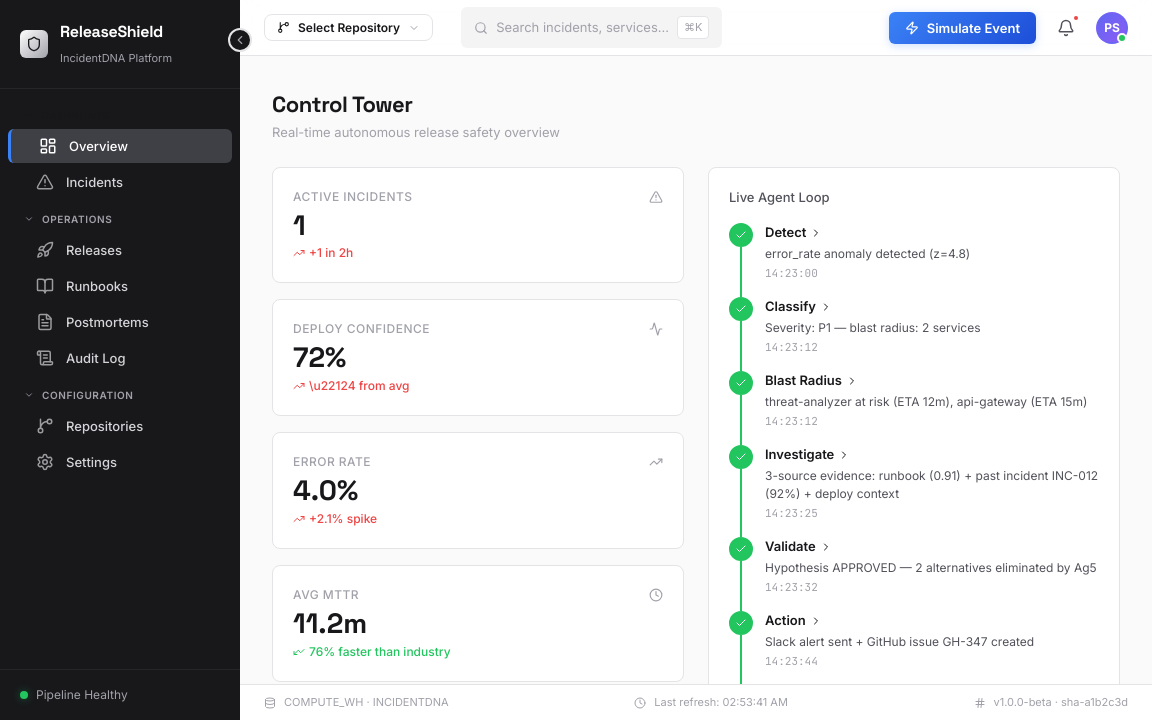
Test: Integration — Incident Drawer Flow › full drawer interaction flow
# Navigate to incidents
Click the button with id "nav-incidents".
click(120, 182)  # box left=8, top=165, right=232, bottom=199
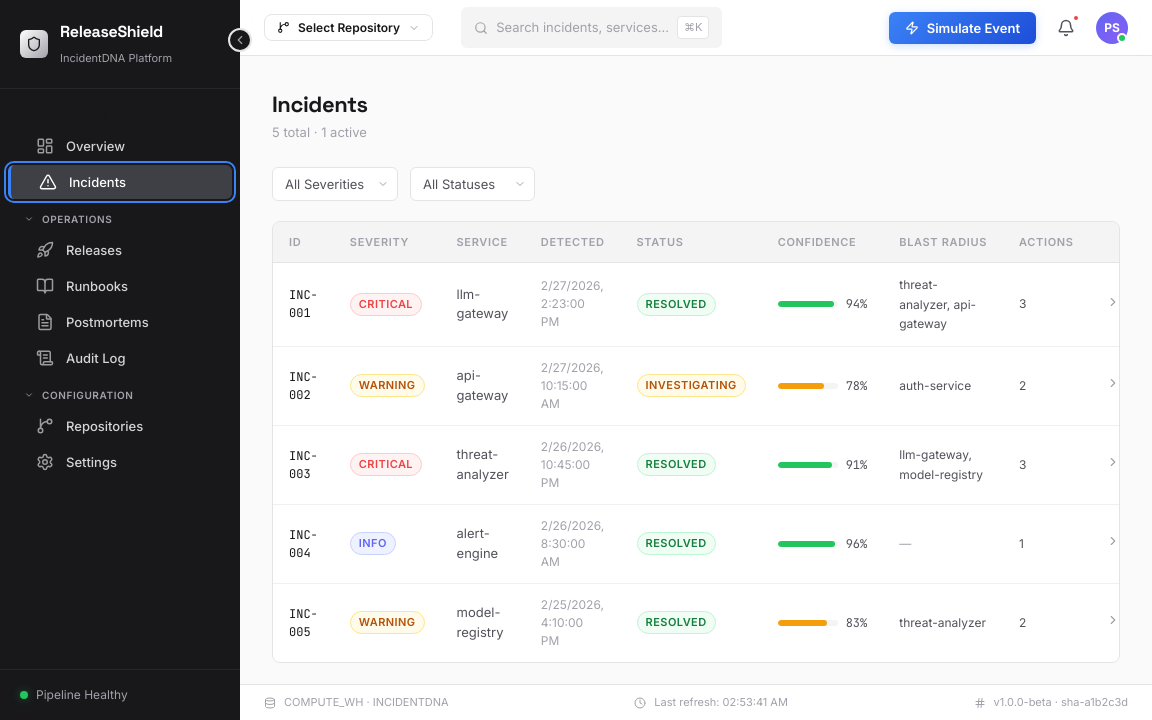
Now the table with id "incidents-table" is shown, box left=273, top=222, right=1120, bottom=662
# Open drawer for INC-001
Click the row with id "incident-row-INC-001".
click(704, 304)  # box left=273, top=262, right=1136, bottom=346
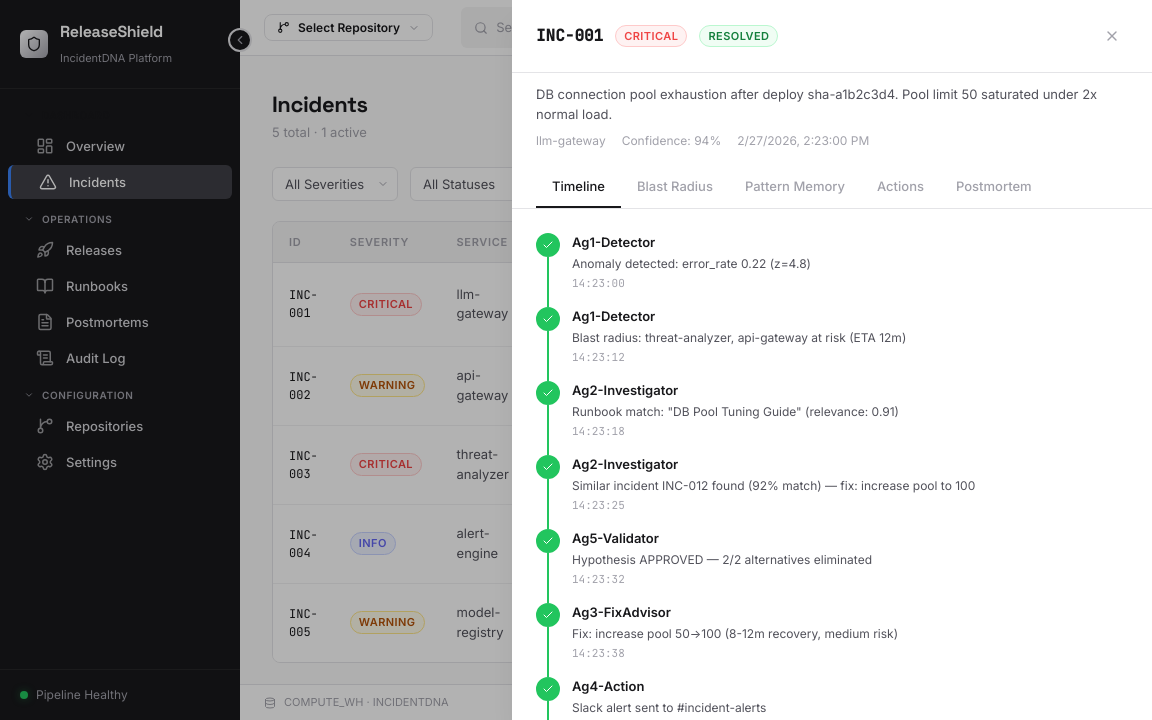
Now the element with id "incident-drawer" is shown, box left=512, top=0, right=1151, bottom=719
# Switch to Pattern Memory tab
Click the button with id "drawer-tab-patterns".
click(795, 187)  # box left=729, top=166, right=861, bottom=208
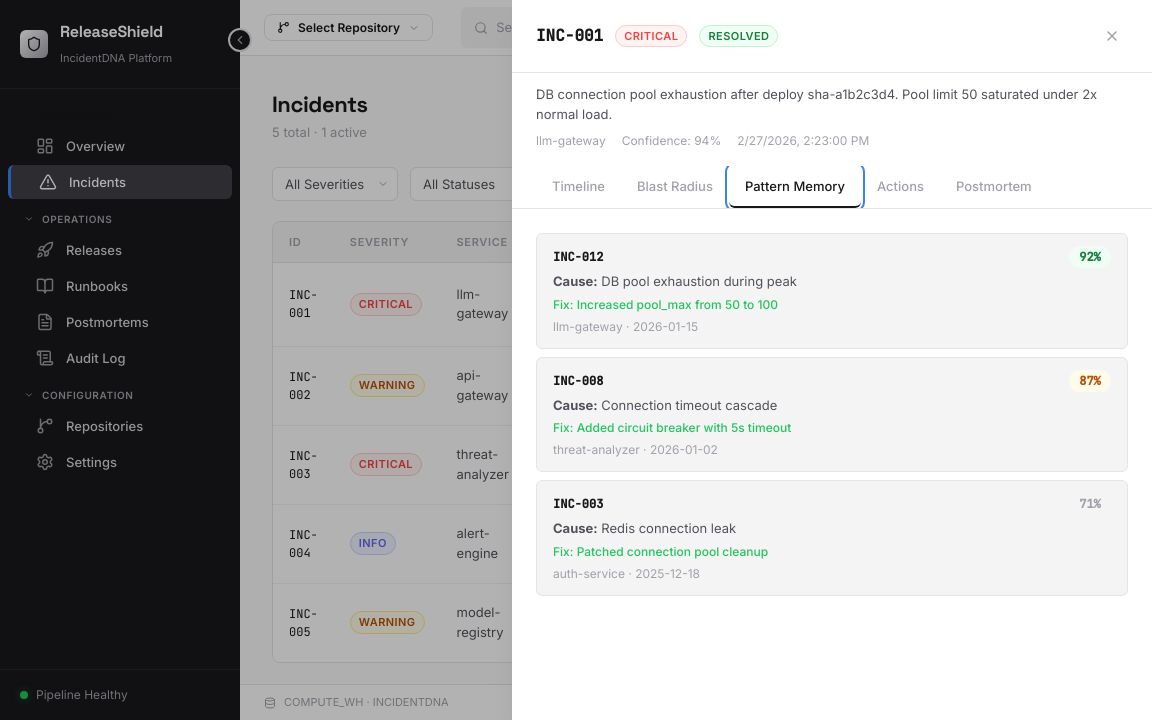
Now the text "92%" is shown, box left=1069, top=246, right=1111, bottom=268
# Switch to Actions tab
Click the button with id "drawer-tab-actions".
click(900, 187)  # box left=861, top=166, right=940, bottom=208
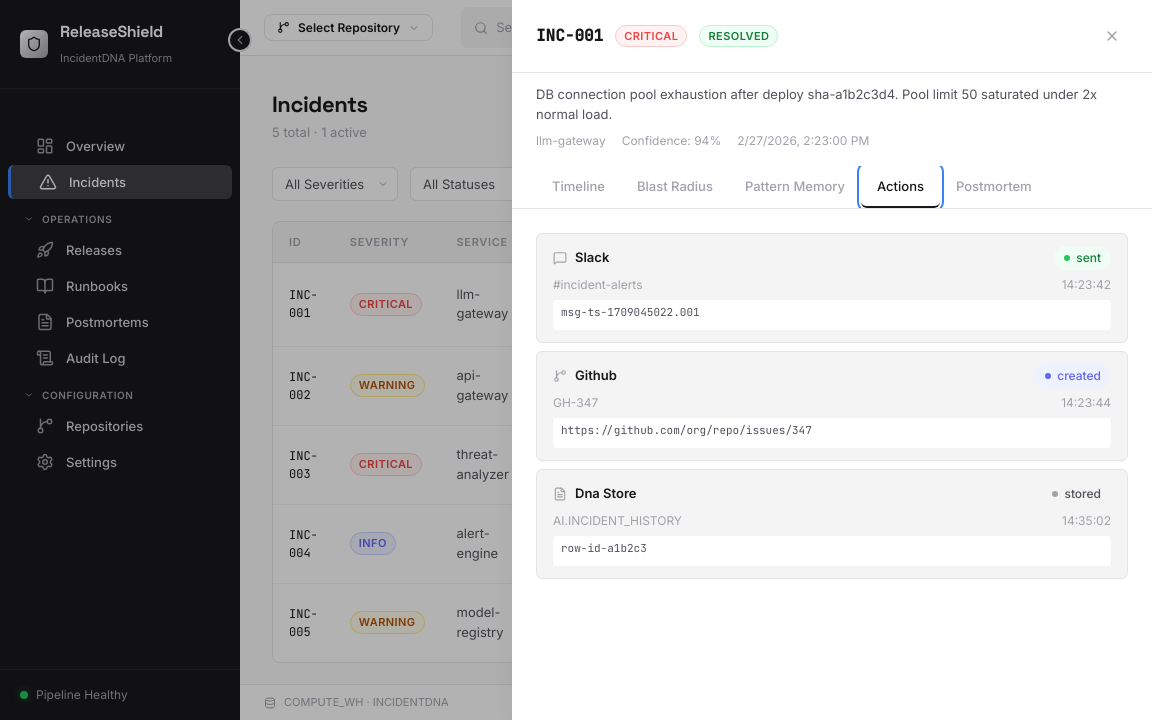
Now the text "slack" is shown, box left=575, top=248, right=609, bottom=268
# Switch to Postmortem tab
Click the button with id "drawer-tab-postmortem".
click(994, 187)  # box left=940, top=166, right=1048, bottom=208
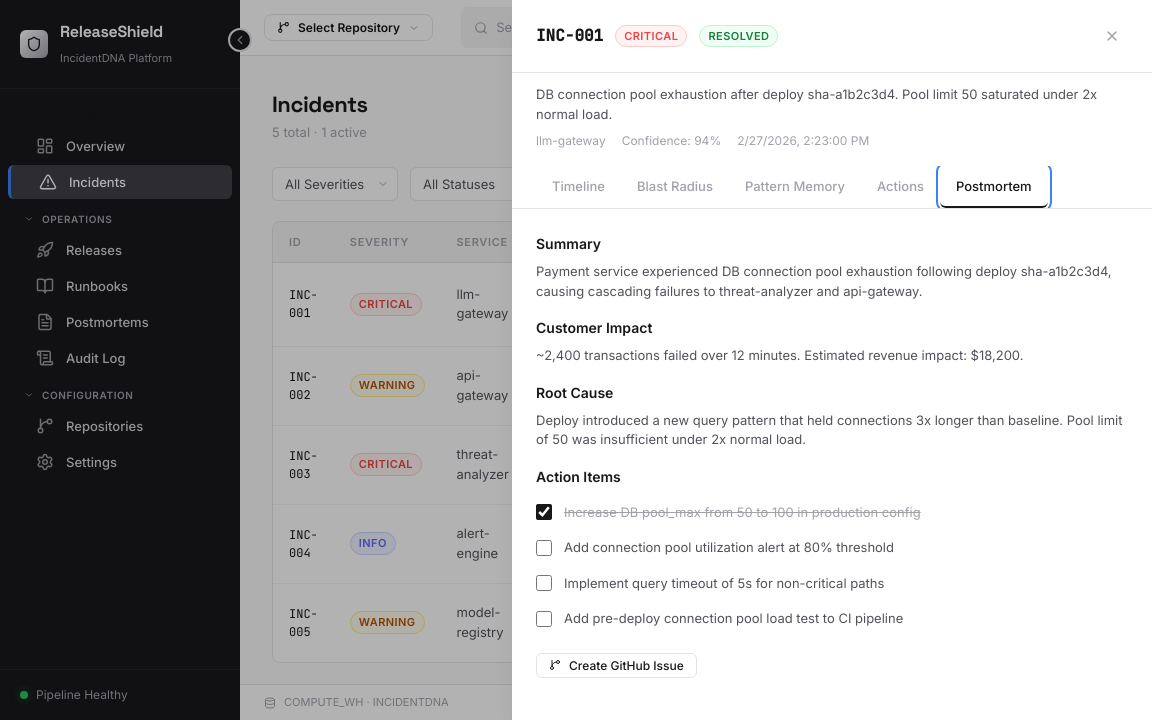
Now the heading "Customer Impact" is shown, box left=536, top=319, right=652, bottom=336
